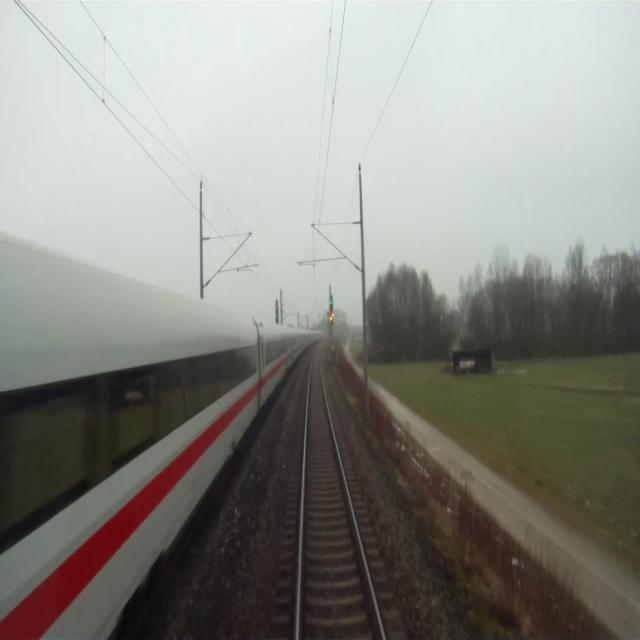rail-track: (301, 348, 381, 639)
